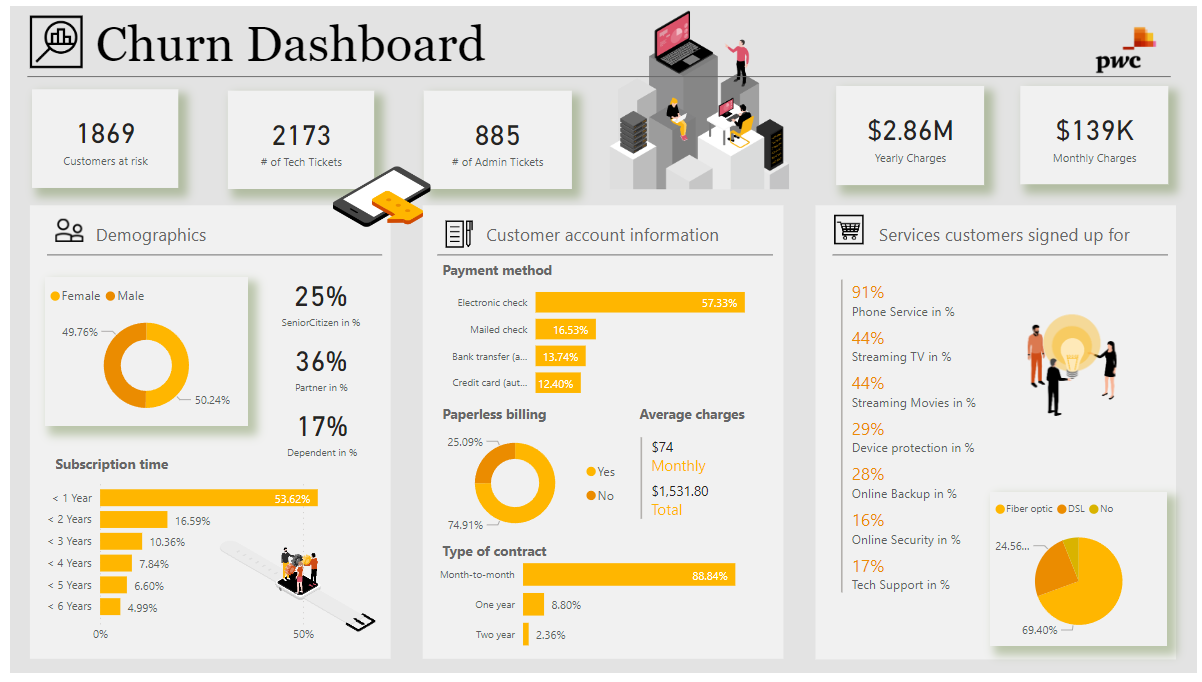

What the dashboard file says about the page in this screenshot:
{"tool":"powerbi","page":{"name":"Churn","canvas":[1280,720],"ordinal":0},"visuals":[{"type":"basicShape","box":[17.3,210,397.1,499.2],"z":0},{"type":"basicShape","box":[441.7,210,397.1,499.2],"z":1000},{"type":"basicShape","box":[864.9,210,396.8,499.9],"z":2000},{"type":"card","fields":{"Values":["Count(01 Churn-Dataset.customerID)"]},"box":[23.5,90.6,158.2,106.5],"z":3000},{"type":"card","fields":{"Values":["Sum(01 Churn-Dataset.numTechTickets)"]},"box":[234.5,90.6,158.2,106.5],"z":4000},{"type":"card","fields":{"Values":["Sum(01 Churn-Dataset.numAdminTickets)"]},"box":[446,90.6,159.7,106.5],"z":5000},{"type":"card","fields":{"Values":["Sum(01 Churn-Dataset.TotalCharges)"]},"box":[891.4,85.7,160,107.1],"z":6000},{"type":"card","fields":{"Values":["Sum(01 Churn-Dataset.MonthlyCharges)"]},"box":[1090.5,86.3,159.7,106.4],"z":7000},{"type":"donutChart","fields":{"Category":["01 Churn-Dataset.gender"],"Y":["CountNonNull(01 Churn-Dataset.gender)"]},"box":[36.9,292.7,218.8,160.6],"z":8000},{"type":"clusteredBarChart","fields":{"Y":["CountNonNull(01 Churn-Dataset.Churn)"],"Category":["01 Churn-Dataset.Loyalty"]},"box":[30.2,499.2,362.5,197.1],"z":9000},{"type":"clusteredBarChart","fields":{"Category":["01 Churn-Dataset.PaymentMethod"],"Y":["CountNonNull(01 Churn-Dataset.PaymentMethod)"]},"box":[458.9,283.4,379.8,151.1],"z":10000},{"type":"donutChart","fields":{"Category":["01 Churn-Dataset.PaperlessBilling"],"Y":["CountNonNull(01 Churn-Dataset.PaperlessBilling)"]},"box":[463.2,447.4,202.8,133.8],"z":11000},{"type":"clusteredBarChart","fields":{"Category":["01 Churn-Dataset.Contract"],"Y":["CountNonNull(01 Churn-Dataset.Contract)"]},"box":[451.7,575.4,379.8,133.8],"z":12000},{"type":"multiRowCard","fields":{"Values":["01 Churn-Dataset.Phone Service in %","01 Churn-Dataset.Streaming TV in %","01 Churn-Dataset.Streaming Movies in %","01 Churn-Dataset.Device protection in %","01 Churn-Dataset.Online Backup in %","01 Churn-Dataset.Online Security in %","01 Churn-Dataset.Tech Support in %"]},"box":[891.4,289.7,171.4,368.6],"z":13000},{"type":"multiRowCard","fields":{"Values":["Avg(01 Churn-Dataset.MonthlyCharges)","Avg(01 Churn-Dataset.TotalCharges)"]},"box":[674.7,460.4,113.6,109.3],"z":14000},{"type":"card","fields":{"Values":["01 Churn-Dataset.SeniorCitizen in %"]},"box":[277.7,273.1,115.1,87.7],"z":15000},{"type":"card","fields":{"Values":["01 Churn-Dataset.Dependent in %"]},"box":[273.8,419.8,125.1,76.2],"z":16000},{"type":"card","fields":{"Values":["01 Churn-Dataset.Partner in %"]},"box":[278.8,351,113.6,73.4],"z":17000},{"type":"image","box":[634.9,0,216.9,202.2],"z":18000},{"type":"image","box":[341.9,151,115.9,108.1],"z":19000},{"type":"textbox","box":[88,228.6,314.9,35.6],"z":20000},{"type":"basicShape","box":[30.2,248.9,381.4,39.5],"z":21000},{"type":"image","box":[43.3,220.6,40.5,44.3],"z":22000},{"type":"basicShape","box":[450.7,248.9,381.4,39.5],"z":23000},{"type":"image","box":[461.3,226.3,47.2,39.5],"z":24000},{"type":"textbox","box":[508.5,228.6,314.9,35.6],"z":25000},{"type":"textbox","box":[461.3,269.7,314.9,35.6],"z":26000},{"type":"textbox","box":[461.3,424.7,204.2,35.6],"z":27000},{"type":"textbox","box":[674.2,424.7,148.3,35.6],"z":28000},{"type":"textbox","box":[461.3,572.1,314.9,35.6],"z":29000},{"type":"textbox","box":[43.8,478.5,314.2,35],"z":30000},{"type":"basicShape","box":[877.4,248.9,381.4,39.5],"z":31000},{"type":"image","box":[883.2,220.6,42.4,43.3],"z":32000},{"type":"textbox","box":[932.7,228.6,314.9,35.6],"z":33000},{"type":"pieChart","fields":{"Category":["01 Churn-Dataset.InternetService"],"Y":["CountNonNull(01 Churn-Dataset.InternetService)"]},"box":[1057.3,524.4,190.4,166.3],"z":34000},{"type":"image","box":[1051.4,327.1,190,120],"z":35000},{"type":"image","box":[221.1,556.2,178.3,139.3],"z":36000},{"type":"textbox","box":[87.7,4.9,1173.8,75],"z":37000},{"type":"image","box":[16.6,4.9,67.2,68.2],"z":38000},{"type":"basicShape","box":[8.5,56.8,1253.3,39.8],"z":39000},{"type":"image","box":[1129,0,151,94.5],"z":40000}]}

Visuals, with their boxes in screenshot pixels (x1, y1, x2, y2), scaled from the page's 1280x720 canvas onto the 1202x682 screenshot:
basicShape: Rect(16, 199, 389, 672)
basicShape: Rect(415, 199, 788, 672)
basicShape: Rect(812, 199, 1185, 672)
card - Count(01 Churn-Dataset.customerID): Rect(22, 86, 171, 187)
card - Sum(01 Churn-Dataset.numTechTickets): Rect(220, 86, 369, 187)
card - Sum(01 Churn-Dataset.numAdminTickets): Rect(419, 86, 569, 187)
card - Sum(01 Churn-Dataset.TotalCharges): Rect(837, 81, 987, 183)
card - Sum(01 Churn-Dataset.MonthlyCharges): Rect(1024, 82, 1174, 183)
donutChart - 01 Churn-Dataset.gender x CountNonNull(01 Churn-Dataset.gender): Rect(35, 277, 240, 429)
clusteredBarChart - CountNonNull(01 Churn-Dataset.Churn) x 01 Churn-Dataset.Loyalty: Rect(28, 473, 369, 660)
clusteredBarChart - 01 Churn-Dataset.PaymentMethod x CountNonNull(01 Churn-Dataset.PaymentMethod): Rect(431, 268, 788, 412)
donutChart - 01 Churn-Dataset.PaperlessBilling x CountNonNull(01 Churn-Dataset.PaperlessBilling): Rect(435, 424, 625, 551)
clusteredBarChart - 01 Churn-Dataset.Contract x CountNonNull(01 Churn-Dataset.Contract): Rect(424, 545, 781, 672)
multiRowCard - 01 Churn-Dataset.Phone Service in % x 01 Churn-Dataset.Streaming TV in %: Rect(837, 274, 998, 624)
multiRowCard - Avg(01 Churn-Dataset.MonthlyCharges) x Avg(01 Churn-Dataset.TotalCharges): Rect(634, 436, 740, 540)
card - 01 Churn-Dataset.SeniorCitizen in %: Rect(261, 259, 369, 342)
card - 01 Churn-Dataset.Dependent in %: Rect(257, 398, 375, 470)
card - 01 Churn-Dataset.Partner in %: Rect(262, 332, 368, 402)
image: Rect(596, 0, 800, 192)
image: Rect(321, 143, 430, 245)
textbox: Rect(83, 217, 378, 250)
basicShape: Rect(28, 236, 387, 273)
image: Rect(41, 209, 79, 251)
basicShape: Rect(423, 236, 781, 273)
image: Rect(433, 214, 478, 252)
textbox: Rect(478, 217, 773, 250)
textbox: Rect(433, 255, 729, 289)
textbox: Rect(433, 402, 625, 436)
textbox: Rect(633, 402, 772, 436)
textbox: Rect(433, 542, 729, 576)
textbox: Rect(41, 453, 336, 486)
basicShape: Rect(824, 236, 1182, 273)
image: Rect(829, 209, 869, 250)
textbox: Rect(876, 217, 1172, 250)
pieChart - 01 Churn-Dataset.InternetService x CountNonNull(01 Churn-Dataset.InternetService): Rect(993, 497, 1172, 654)
image: Rect(987, 310, 1166, 424)
image: Rect(208, 527, 375, 659)
textbox: Rect(82, 5, 1185, 76)
image: Rect(16, 5, 79, 69)
basicShape: Rect(8, 54, 1185, 92)
image: Rect(1060, 0, 1201, 90)
